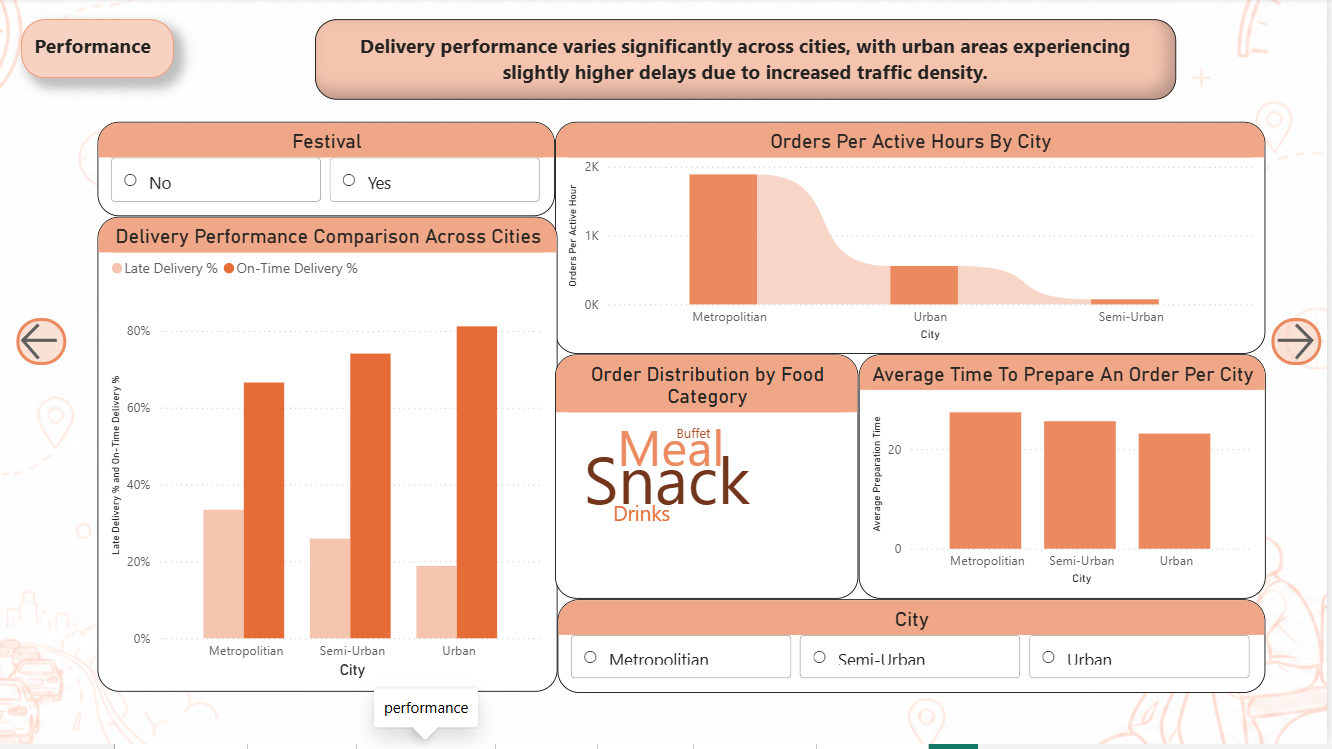

What the dashboard file says about the page in this screenshot:
{"tool":"powerbi","page":{"name":"performance","canvas":[1280,720],"ordinal":2},"visuals":[{"type":"ribbonChart","title":"Orders Per  Active Hours By City","fields":{"Category":["train.City"],"Y":["train.Orders Per Active Hour"]},"box":[535.7,119.4,685.3,224.4],"z":0},{"type":"clusteredColumnChart","title":"Delivery Performance Comparison Across Cities","fields":{"Category":["train.City"],"Y":["train.Late Delivery %","train.On-Time Delivery %"]},"box":[94.3,211.4,444.3,458.6],"z":1000},{"type":"WordCloud1447959067750","title":"Order Distribution by Food Category","fields":{"Category":["train.Type_of_order"],"Values":["train.Total Orders"]},"box":[535.7,344.3,292.9,235.7],"z":2000},{"type":"actionButton","box":[1221.5,304.3,58.5,55.5],"z":3000},{"type":"actionButton","box":[10.5,304.3,58.5,55.5],"z":4000},{"type":"textbox","box":[20.5,20.5,147.2,56.7],"z":5000},{"type":"advancedSlicerVisual","fields":{"Values":["train.City"]},"box":[538.6,580,682.9,90],"z":6000},{"type":"advancedSlicerVisual","fields":{"Values":["train.Festival"]},"box":[94.3,120,441.4,91.4],"z":7000},{"type":"textbox","box":[304.2,20.7,830.9,77.4],"z":8000},{"type":"lineClusteredColumnComboChart","title":"Average Time To Prepare An Order Per City","fields":{"Category":["train.City"],"Y":["Avg(train.Time_taken_num)"]},"box":[828.6,344.3,392.9,235.7],"z":9000}]}

Visuals, with their boxes in screenshot pixels (x1, y1, x2, y2), scaled from the page's 1280x720 canvas onto the 1332x749 screenshot:
"Orders Per  Active Hours By City" ribbonChart: 557/124/1271/358
"Delivery Performance Comparison Across Cities" clusteredColumnChart: 98/220/560/697
"Order Distribution by Food Category" WordCloud1447959067750: 557/358/862/603
actionButton: 1271/317/1331/374
actionButton: 11/317/72/374
textbox: 21/21/175/80
advancedSlicerVisual - train.City: 560/603/1271/697
advancedSlicerVisual - train.Festival: 98/125/557/220
textbox: 317/22/1181/102
"Average Time To Prepare An Order Per City" lineClusteredColumnComboChart: 862/358/1271/603
